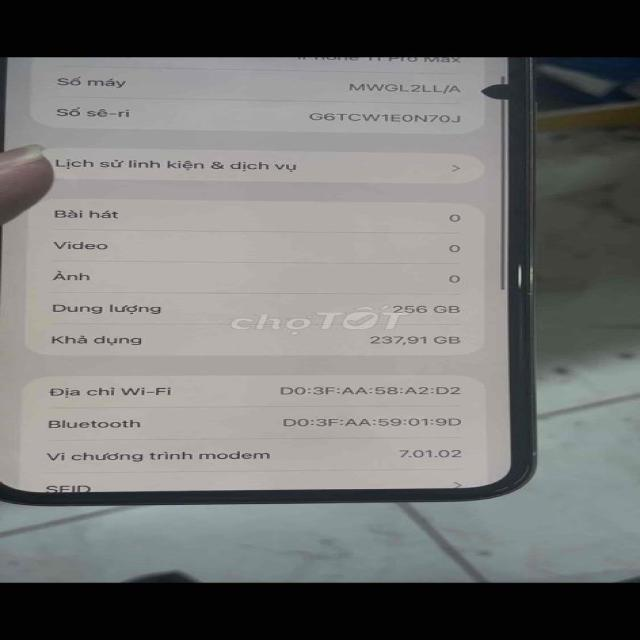gen_11: (0, 47, 540, 506)
